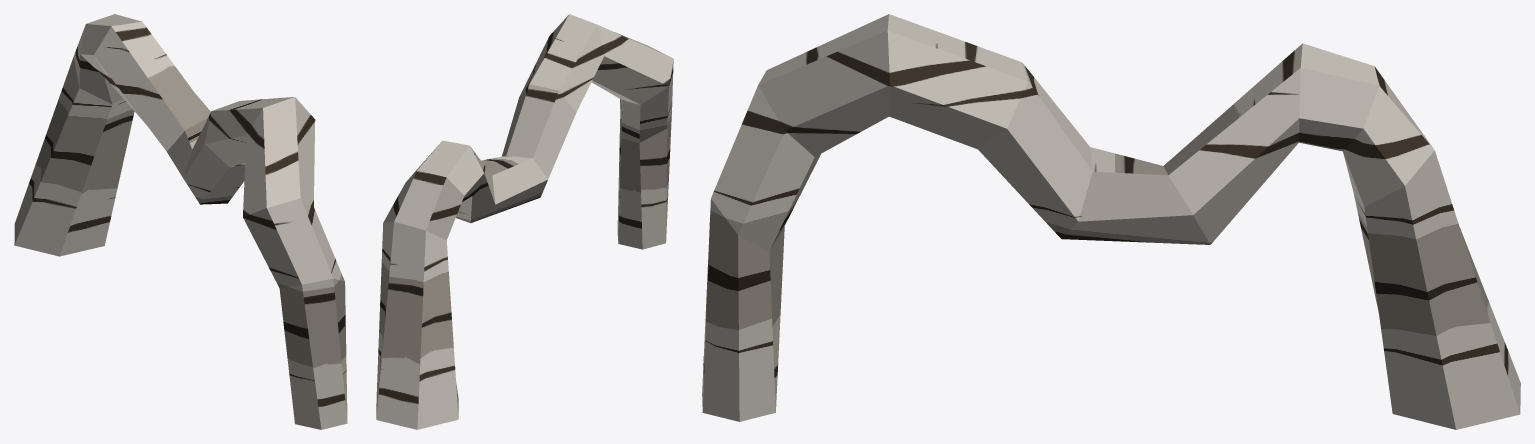
The model's file is synty-tree-swamp-root-02.gltf.
3 views of the same model, side by side, from view 1: azimuth 30°, elevation 25°; view 2: azimuth 150°, elevation 25°; view 3: azimuth 270°, elevation 25° (orthographic). The views are drawn at different scales.
Visible parts, largest first — view 1: SM_Tree_Swamp_Root_02; view 2: SM_Tree_Swamp_Root_02; view 3: SM_Tree_Swamp_Root_02.
Part boxes in pixels (box(x1,y1,x2,y2)): SM_Tree_Swamp_Root_02: box(14, 14, 347, 429); SM_Tree_Swamp_Root_02: box(376, 14, 673, 429); SM_Tree_Swamp_Root_02: box(702, 14, 1520, 429).
Size of the model in its own units: 0.2102 by 0.4872 by 0.9209.
1 material, 1 textured.
